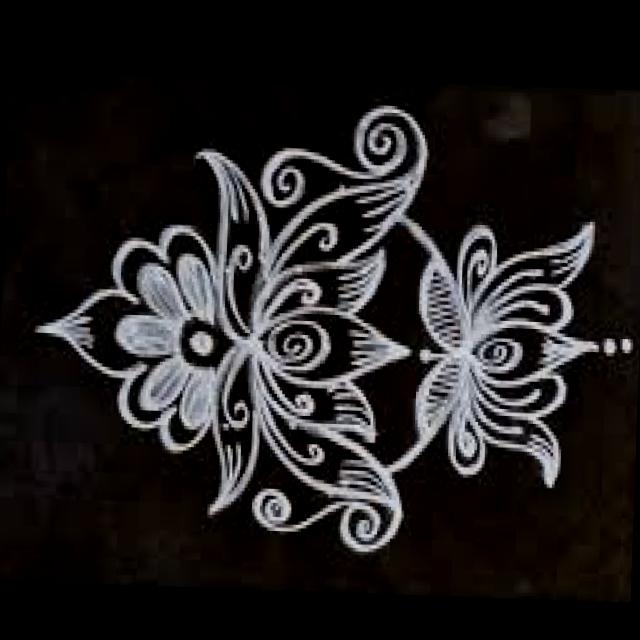rangoli: (23, 85, 640, 574)
